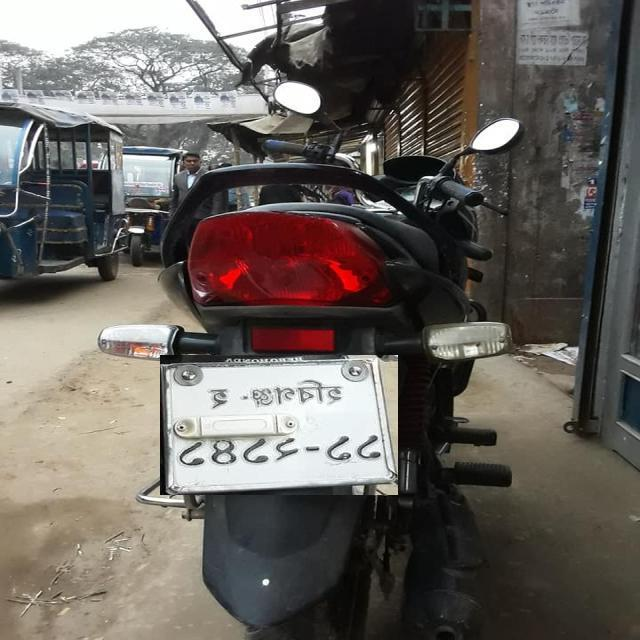numberplate: (160, 355, 398, 495)
